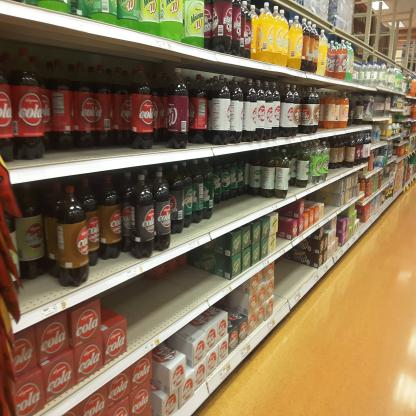Void: (16, 203, 58, 292), (120, 264, 208, 304), (219, 168, 258, 211), (52, 144, 140, 158), (276, 250, 310, 280), (326, 183, 337, 210)
